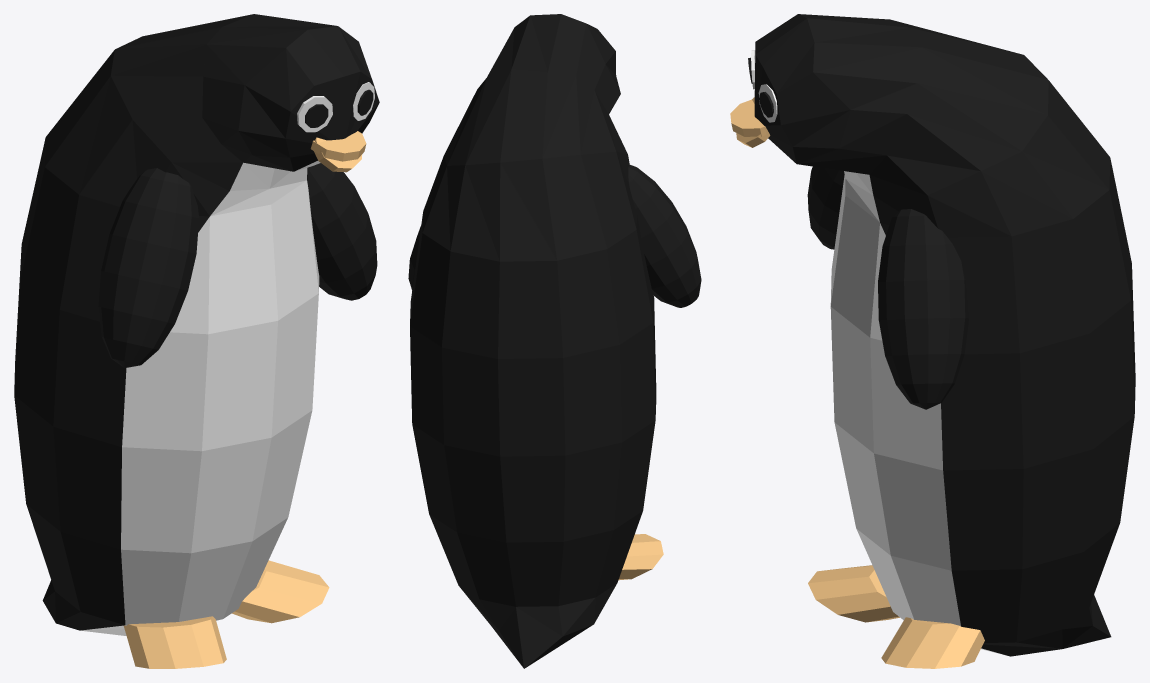
Rendered from penguin_stand.glb.
3 renders of one model, left to right at view 1: azimuth 30°, elevation 25°; view 2: azimuth 150°, elevation 25°; view 3: azimuth 270°, elevation 25°, orthographic. The views are drawn at different scales.
Visible parts, largest first — view 1: group1983593177; view 2: group1983593177; view 3: group1983593177.
Part boxes in pixels (left/top/right/bottom): group1983593177: left=14, top=14, right=379, bottom=668; group1983593177: left=408, top=14, right=701, bottom=668; group1983593177: left=730, top=14, right=1135, bottom=668.
Size of the model in its own units: 0.4856 by 1 by 0.5477.
